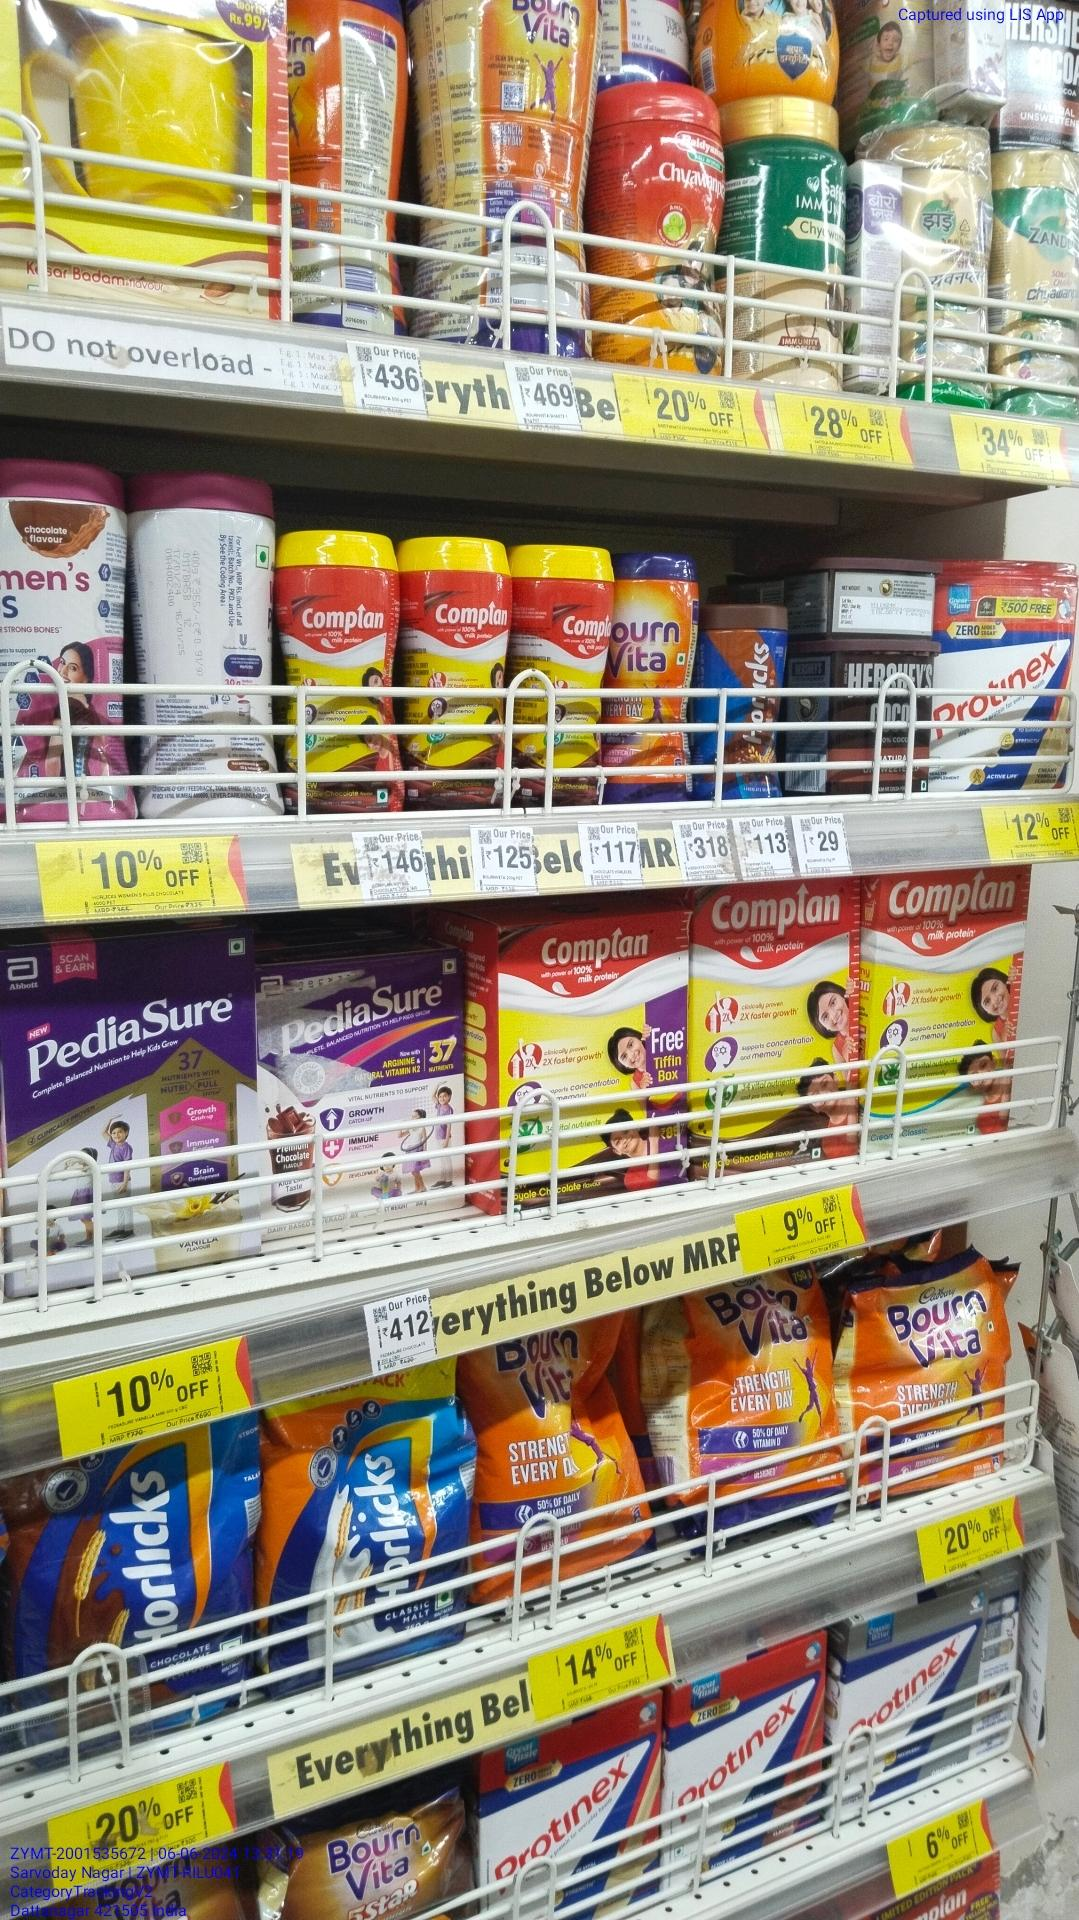BOURN_VITA_1_KG_JAR: (451, 0, 609, 355)
BOURN_VITA_200_G_JAR: (611, 550, 696, 808)
BOURN_VITA_500_G_POUCH: (859, 1282, 1000, 1501)
BOURN_VITA_750_G_POUCH: (480, 1323, 642, 1582), (696, 1263, 839, 1531)
COMPLAN_CHOCOLATE_200_GMS_JAR: (276, 529, 398, 815), (406, 535, 507, 812), (518, 543, 603, 807)
COMPLAN_CREAMY_CLASSIC_500_G_PACK: (876, 874, 1017, 1150)
HORLICK_CHOCOLATE_200_G_JAR: (702, 605, 791, 803)
HORLICK_CLASSIC_MALT_750_G_POUCH: (273, 1389, 466, 1688)
PEDIASURE_VANILLA_500_G_PACK: (0, 944, 248, 1295)
PROTINEX_VANILLA_400_G_JAR: (934, 559, 1079, 798)
